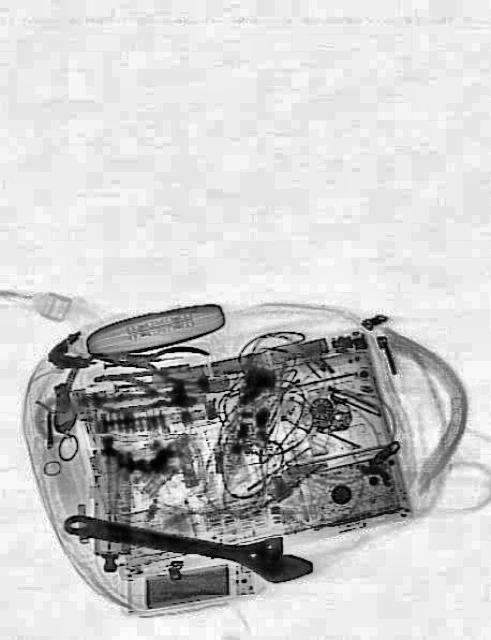Pliers: (87, 334, 211, 386), (88, 370, 194, 420)
Wrench: (59, 498, 316, 590)
